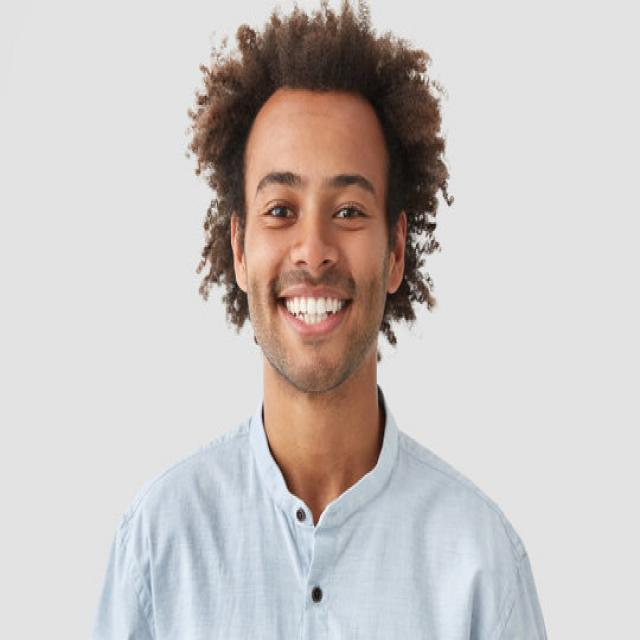nothing: (188, 0, 452, 230)
